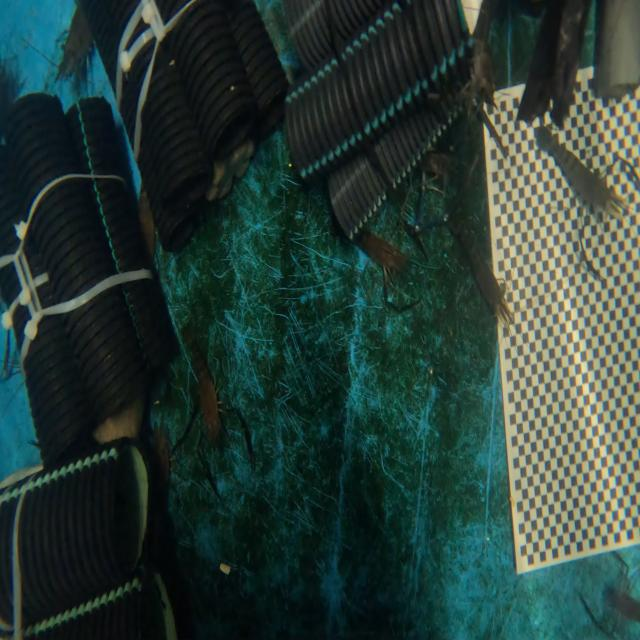prawn: (537, 128, 612, 215), (446, 206, 503, 309), (190, 351, 220, 440), (356, 232, 407, 272)
